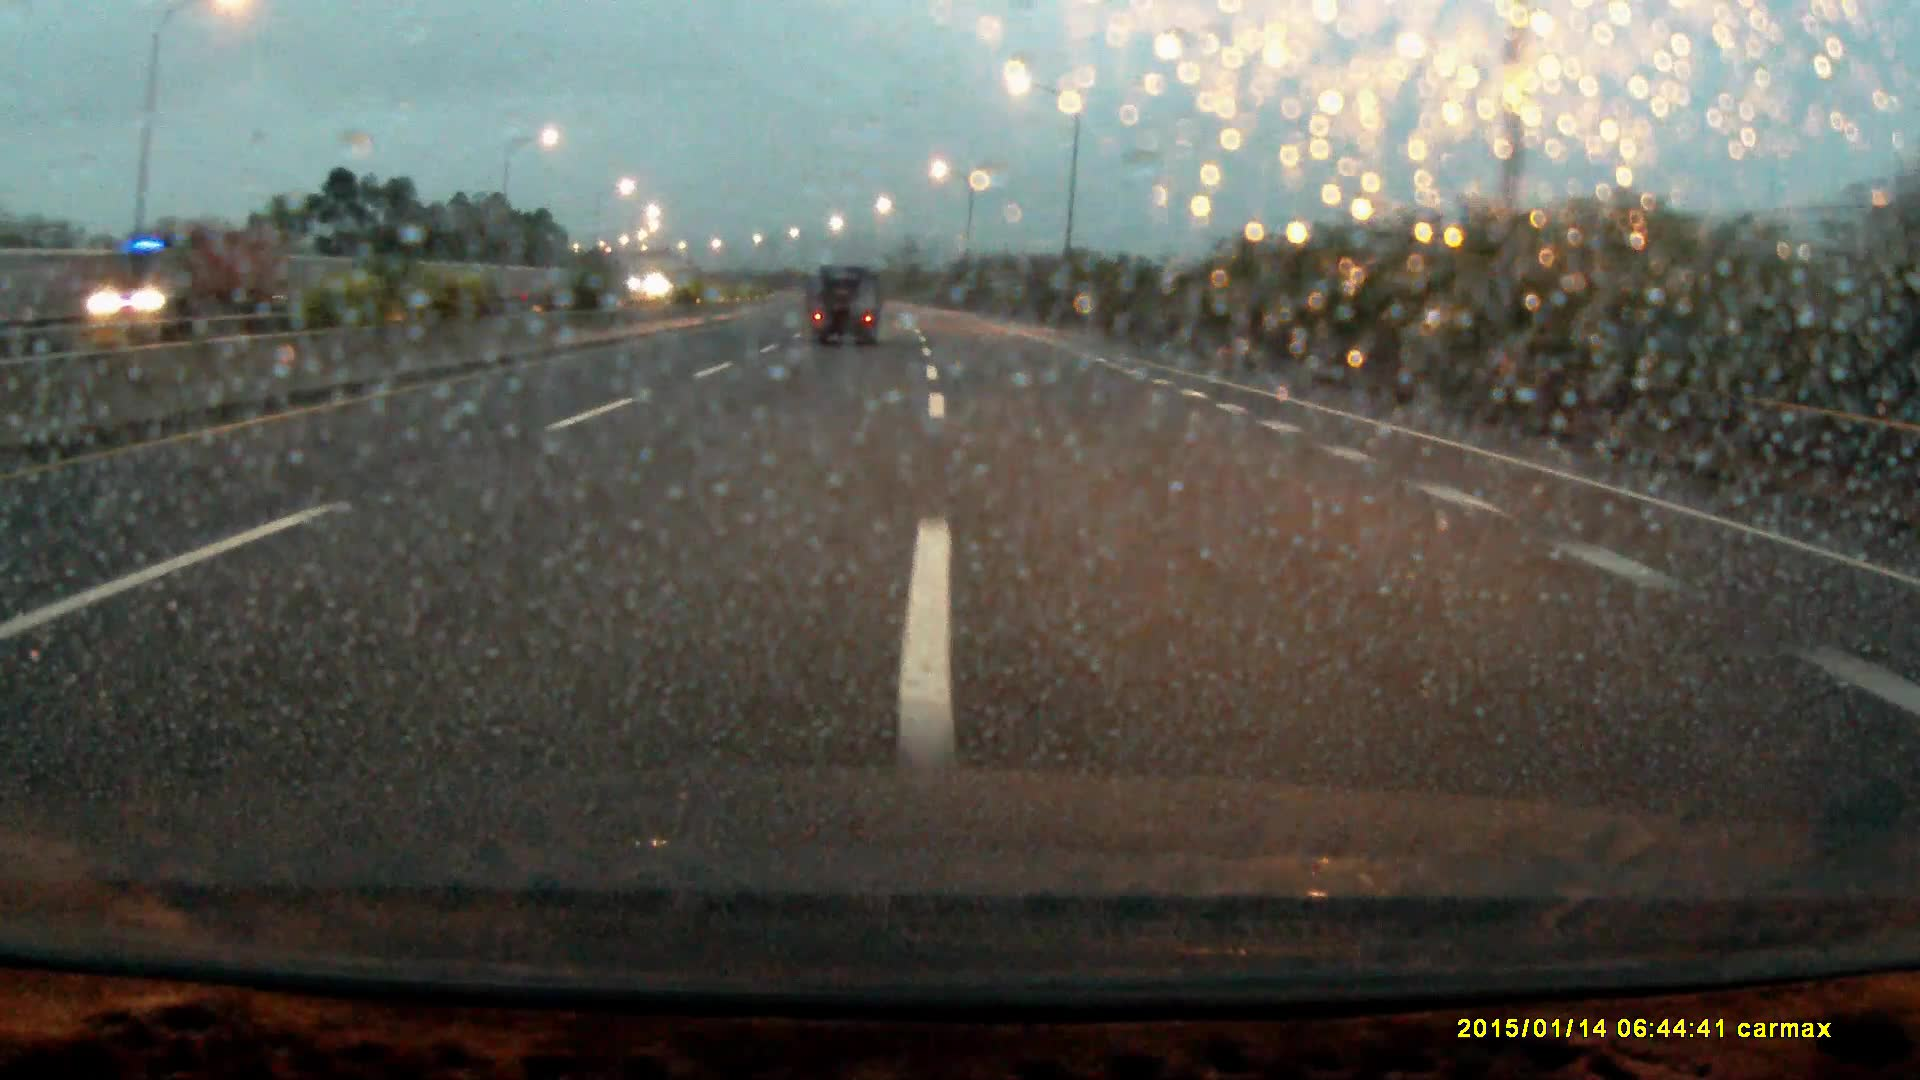vehicle: (55, 229, 274, 324), (806, 266, 884, 351)
